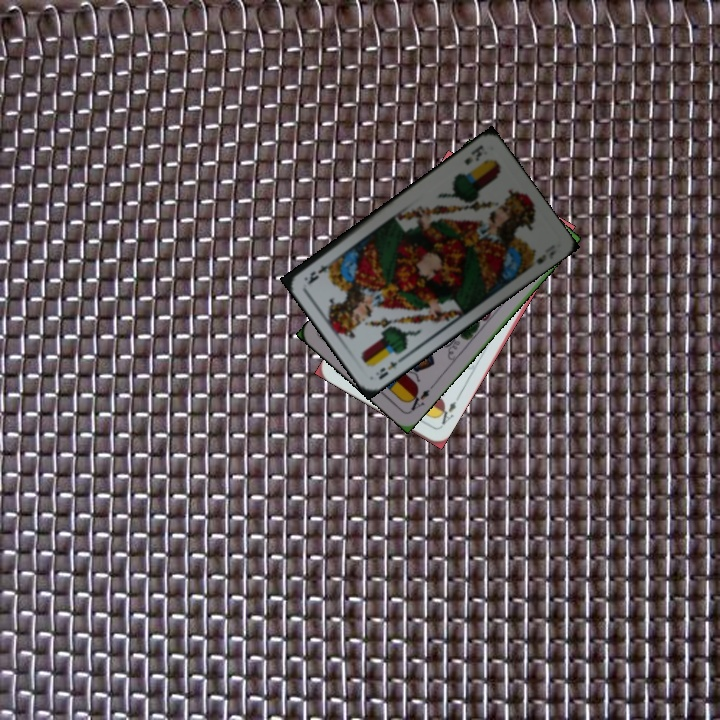EA: (432, 393, 462, 430), (403, 385, 432, 414)
EK: (371, 353, 407, 382), (460, 141, 487, 168)
